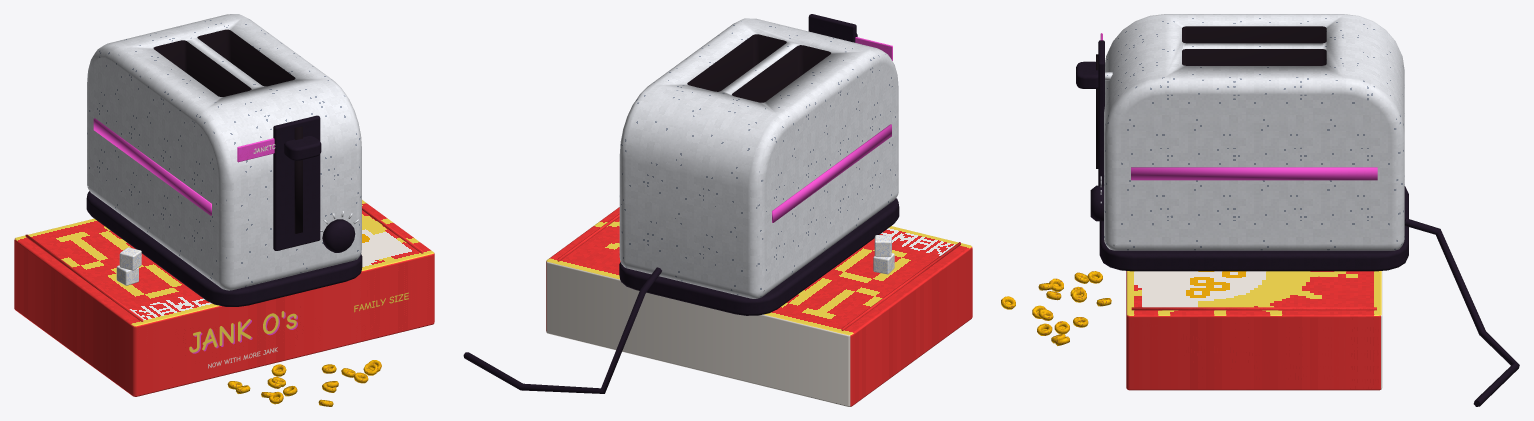
The model's file is x_bgn_toaster.glb.
The picture shows the model from 3 angles, left to right: view 1: azimuth 30°, elevation 25°; view 2: azimuth 150°, elevation 25°; view 3: azimuth 270°, elevation 25°; orthographic projection. The views are drawn at different scales.
Parts seen in each view (by area): view 1: toaster, podium, lever; view 2: toaster, podium; view 3: toaster, podium, lever.
Part boxes in pixels (bbox=[...]): toaster: bbox=[86, 14, 362, 306]; podium: bbox=[14, 200, 434, 406]; lever: bbox=[284, 136, 321, 160]; toaster: bbox=[463, 14, 899, 393]; podium: bbox=[546, 207, 972, 406]; toaster: bbox=[1090, 14, 1519, 406]; podium: bbox=[1001, 271, 1382, 390]; lever: bbox=[1076, 61, 1112, 88].
Size of the model in its own units: 0.3664 by 0.2672 by 0.4657.
Materials: 14 (8 with a texture image).
